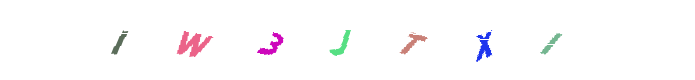1: (79, 0, 159, 80), (444, 0, 524, 80)
3: (232, 0, 312, 80)
J: (298, 0, 378, 80)
T: (308, 0, 388, 80)
W: (215, 0, 295, 80)
X: (373, 0, 453, 80)
